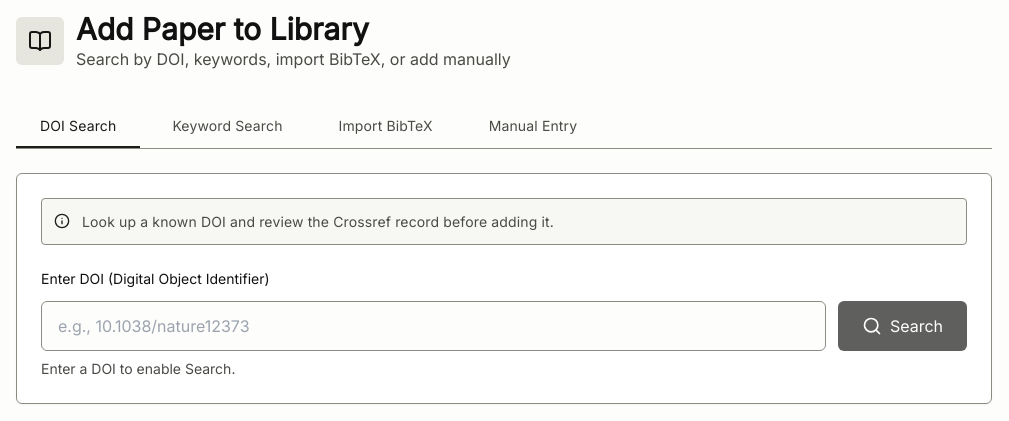
Test: AddPaperView Clear Button › should show and work clear button in DOI search
Type "10.1234/test.doi" into the field with placeholder "e.g., 10.1038/nature12373".
click(433, 326); type("10.1234/test.doi")  # box [41,301,826,351]
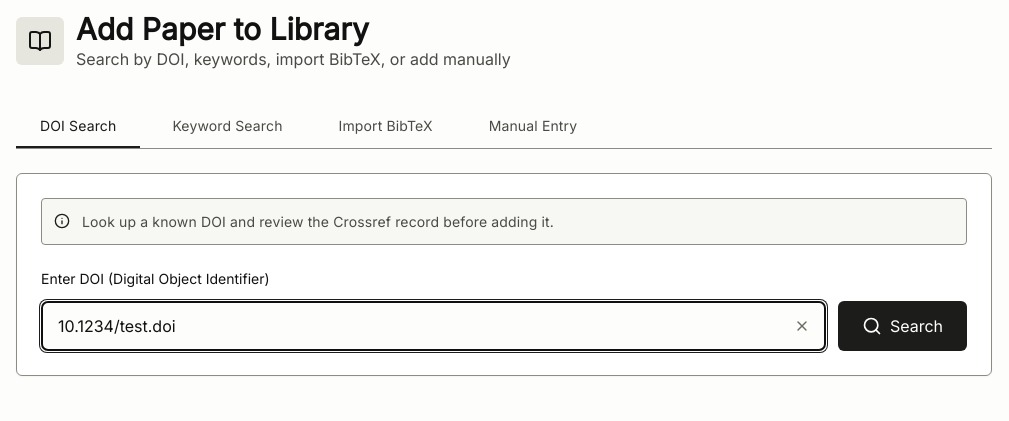
Result: the button named "clear search" is shown
Click clear button
Click the button named "clear search".
click(802, 326)  # box [790,314,814,338]
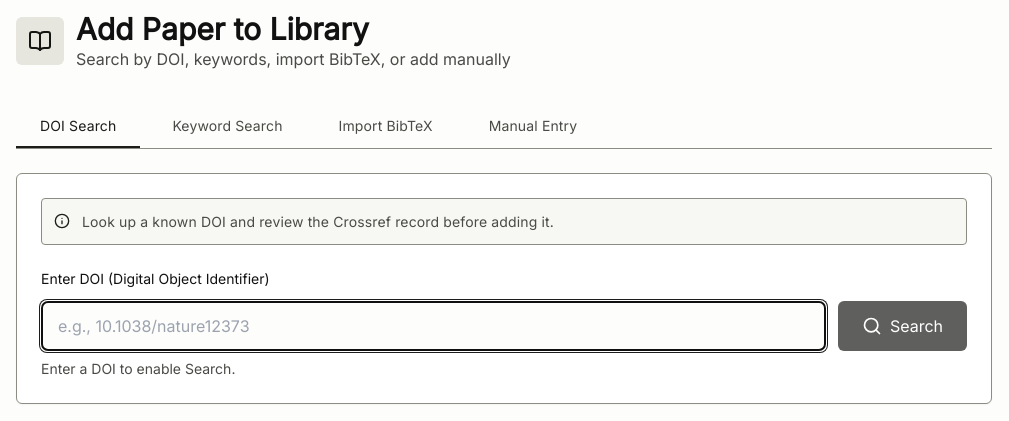
Result: the field with placeholder "e.g., 10.1038/nature12373" is empty at [41,301,826,351]
